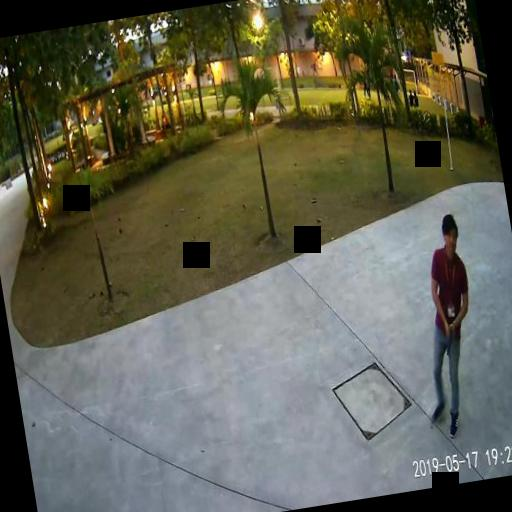Handgun: (440, 321, 458, 354)
